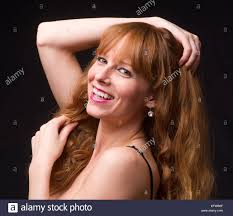white_female: (73, 40, 157, 130)
